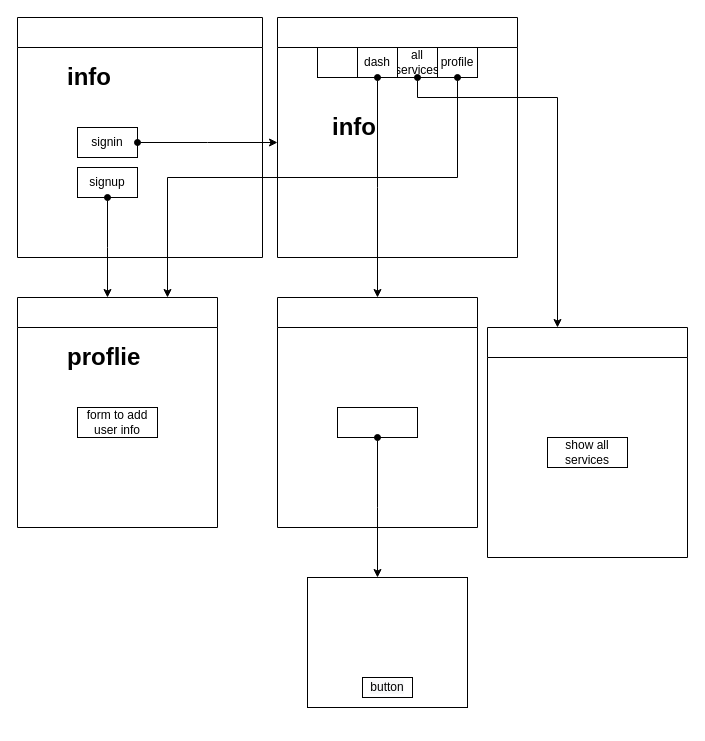
Some shapes in this 705 by 741 pixel diagram are drawn without their labels. Each missing label, with the box of its shape:
home: (316, 46, 358, 78)
post Name id text: (306, 576, 468, 708)
show all dashboard: (336, 406, 418, 438)
